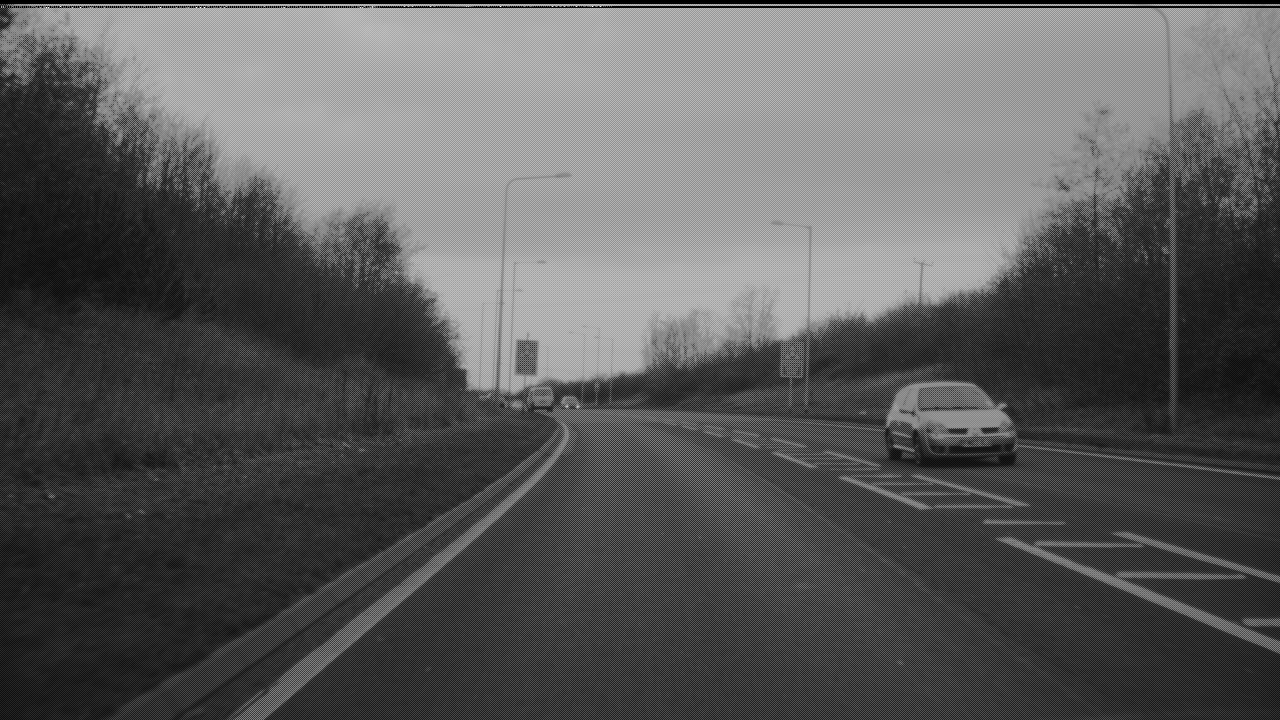pole: (1166, 19, 1177, 423), (493, 182, 507, 404), (804, 221, 811, 405)
